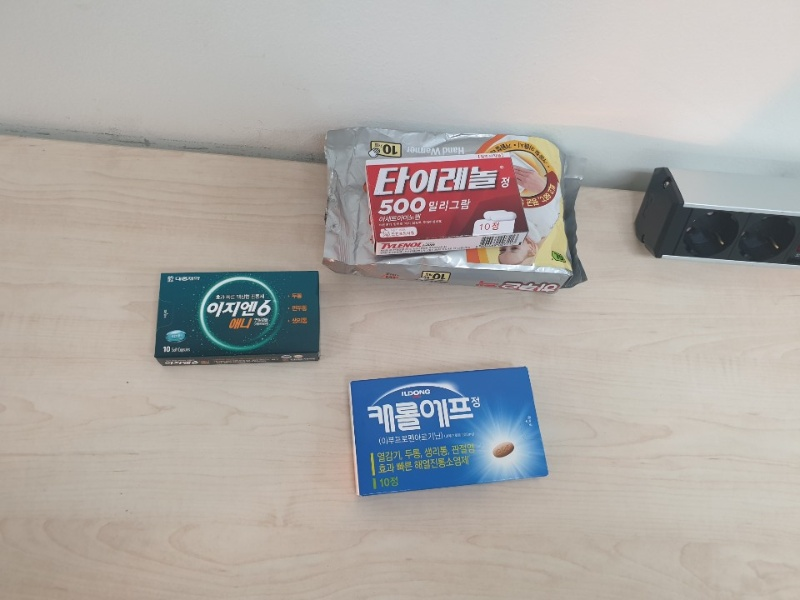carolF: (348, 366, 552, 494)
ezn: (153, 271, 322, 367)
